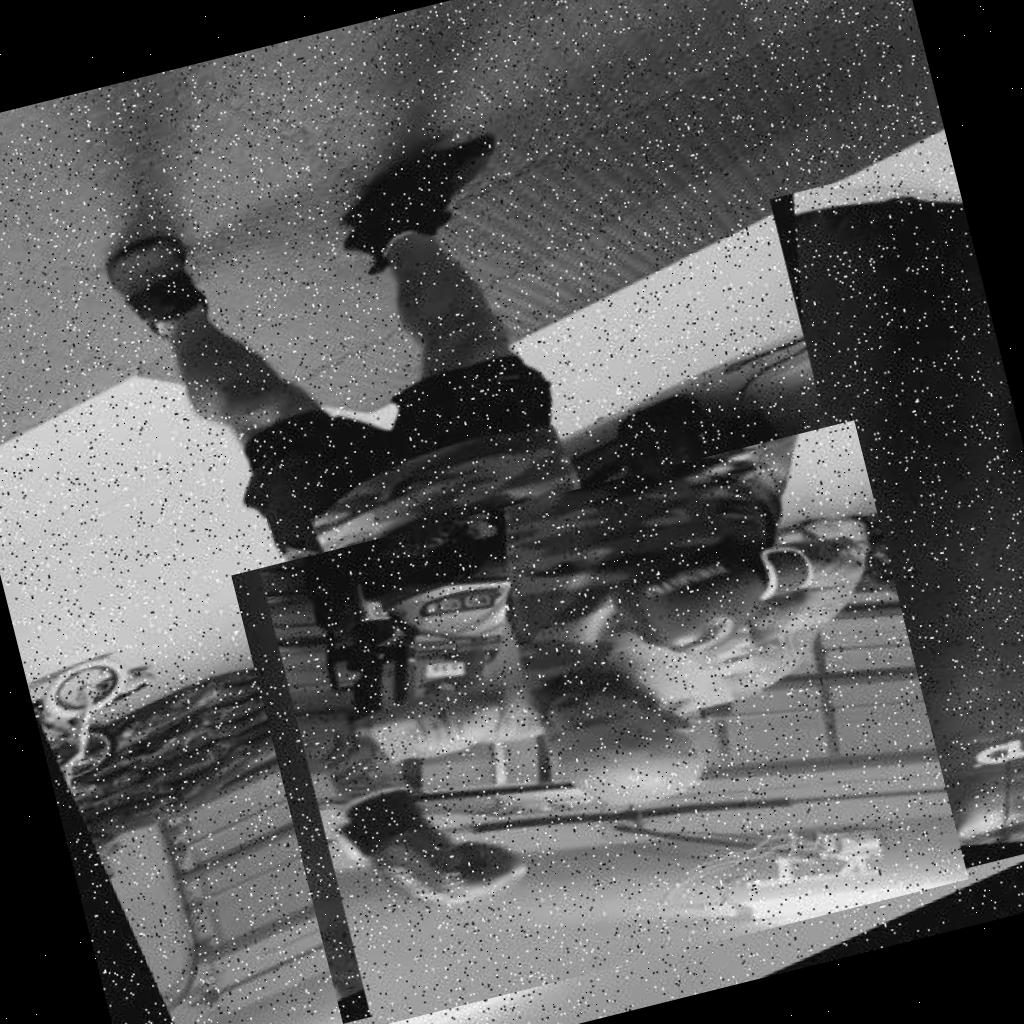bag: (769, 153, 1024, 874)
uppercut: (231, 419, 968, 1024)
